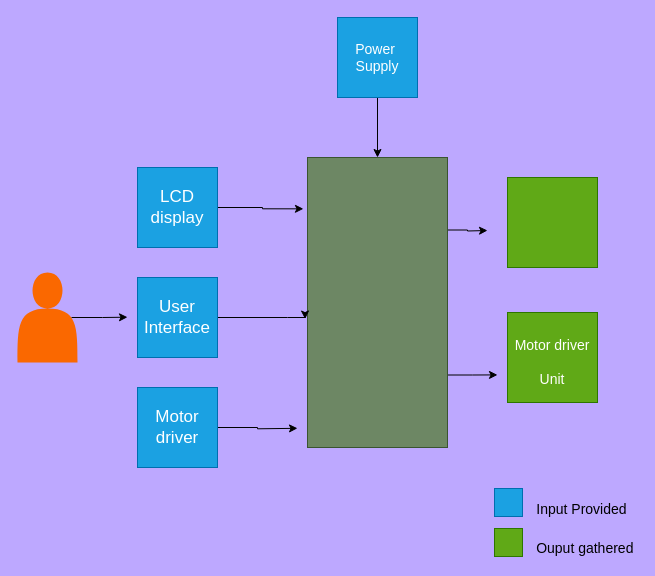
Image size: 655x576. Some labels were removed from this diagram. The centre of each missing label's shape, as x and y in pixels:
"Control Unit" belongs at [377,302].
"Control unit ON/OFF" belongs at [552,222].
